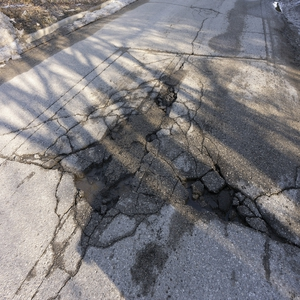pothole: (70, 152, 141, 217), (180, 173, 250, 232)
